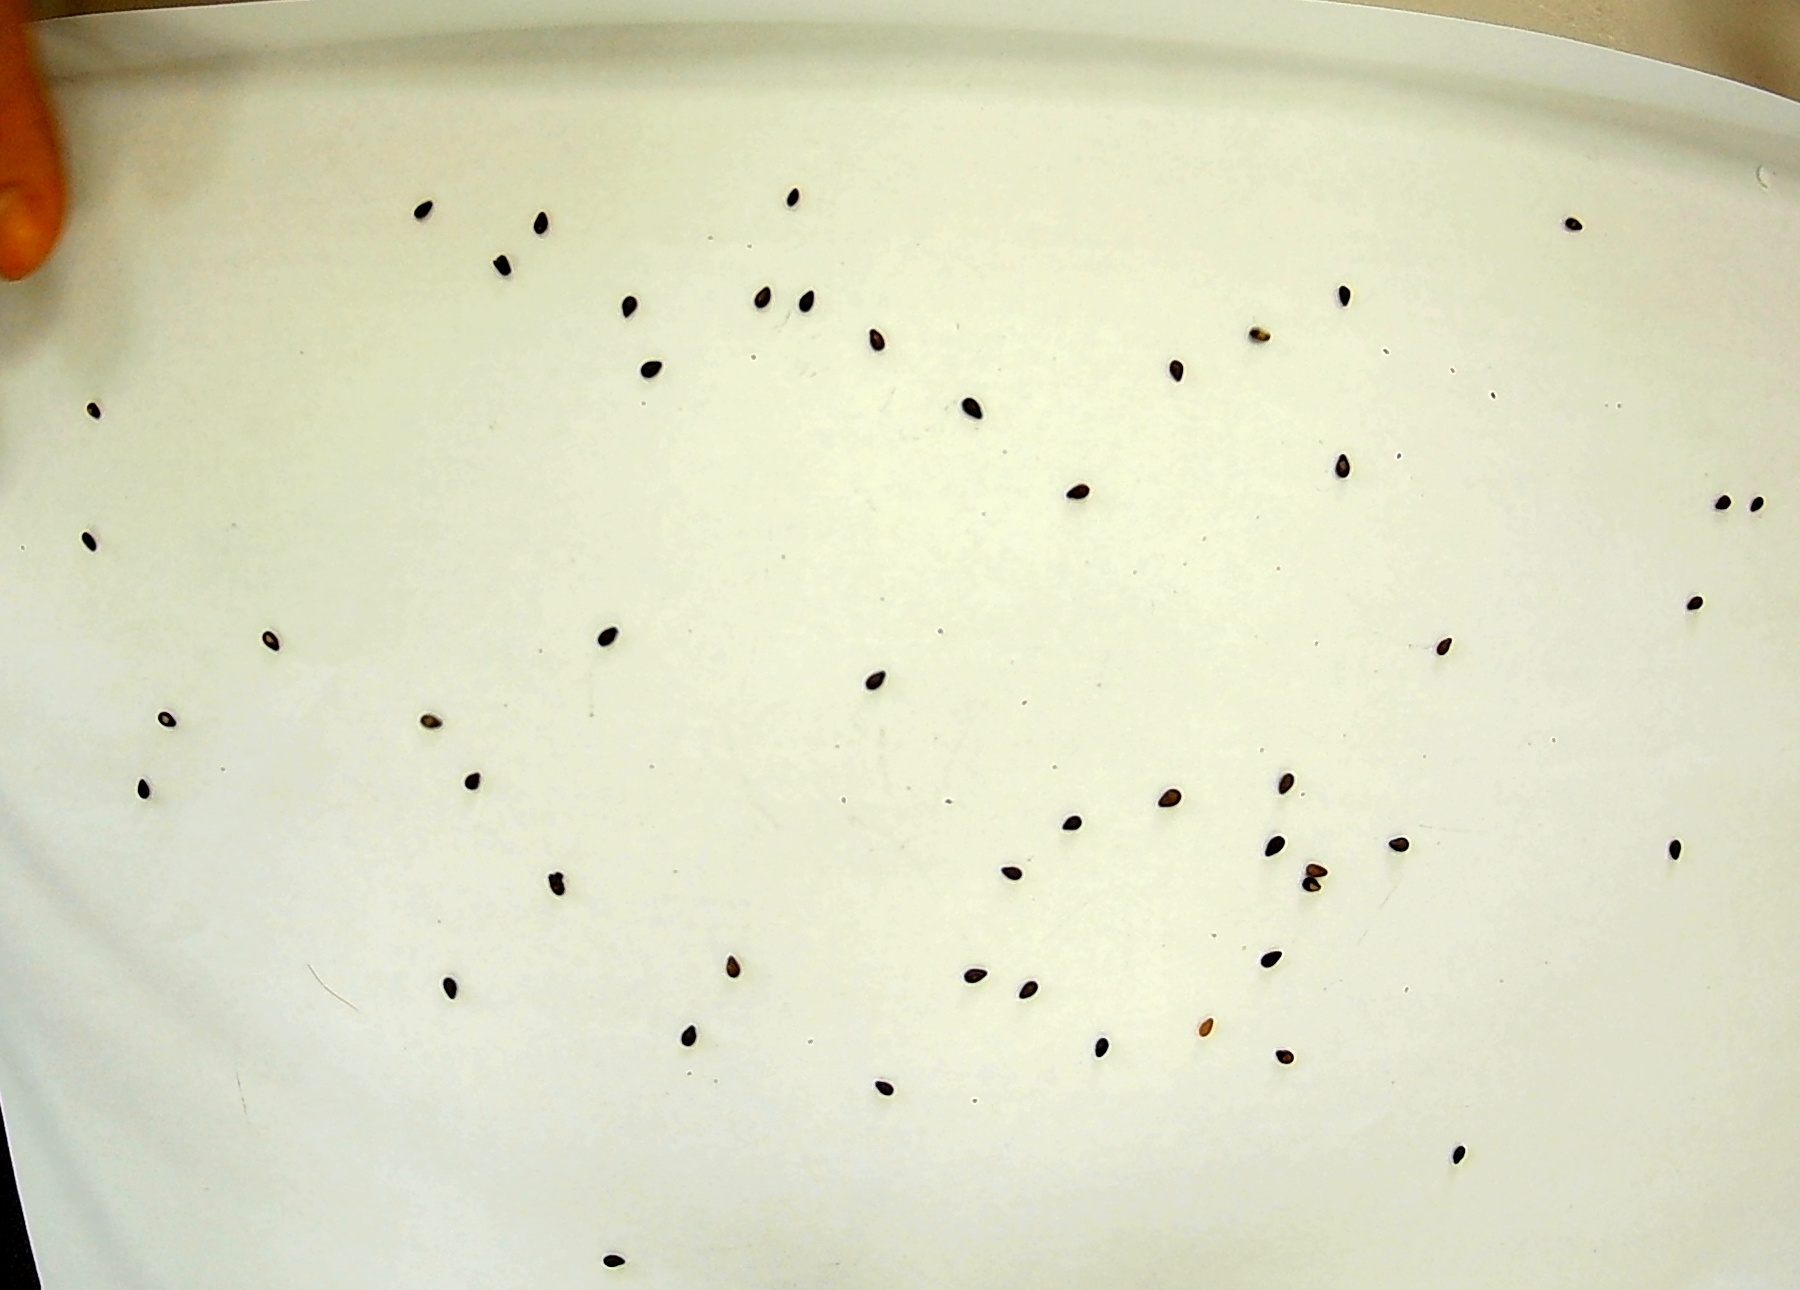sesami: (405, 187, 440, 223), (481, 255, 516, 292), (414, 704, 449, 740), (453, 757, 488, 793), (603, 1245, 638, 1282), (587, 611, 622, 648), (638, 350, 673, 387), (954, 399, 989, 436), (1060, 800, 1095, 836), (1160, 780, 1194, 817), (1095, 1022, 1130, 1058), (1185, 1004, 1220, 1040), (1254, 938, 1289, 974), (1746, 487, 1780, 524), (1427, 624, 1462, 660), (75, 390, 110, 424), (719, 954, 753, 988), (78, 519, 112, 556), (142, 697, 176, 733), (534, 866, 568, 902), (668, 1009, 702, 1046), (611, 297, 645, 334), (749, 281, 783, 317), (780, 180, 813, 216), (1058, 465, 1091, 501), (861, 660, 894, 697), (996, 860, 1030, 896), (1257, 818, 1291, 854), (1300, 843, 1334, 880), (1298, 874, 1331, 910), (1261, 764, 1295, 800), (957, 956, 991, 993), (871, 1078, 904, 1114), (1439, 1124, 1472, 1160), (1387, 828, 1420, 864), (1666, 833, 1700, 870), (1559, 200, 1592, 236), (1165, 350, 1199, 387), (1324, 452, 1358, 489), (1674, 593, 1708, 630), (527, 200, 561, 235), (258, 623, 292, 658), (124, 771, 158, 806), (428, 974, 462, 1009), (786, 283, 819, 318), (858, 322, 892, 357), (1012, 974, 1045, 1009), (1264, 1041, 1298, 1076), (1701, 482, 1734, 517), (1327, 276, 1360, 311), (1246, 322, 1280, 357)
